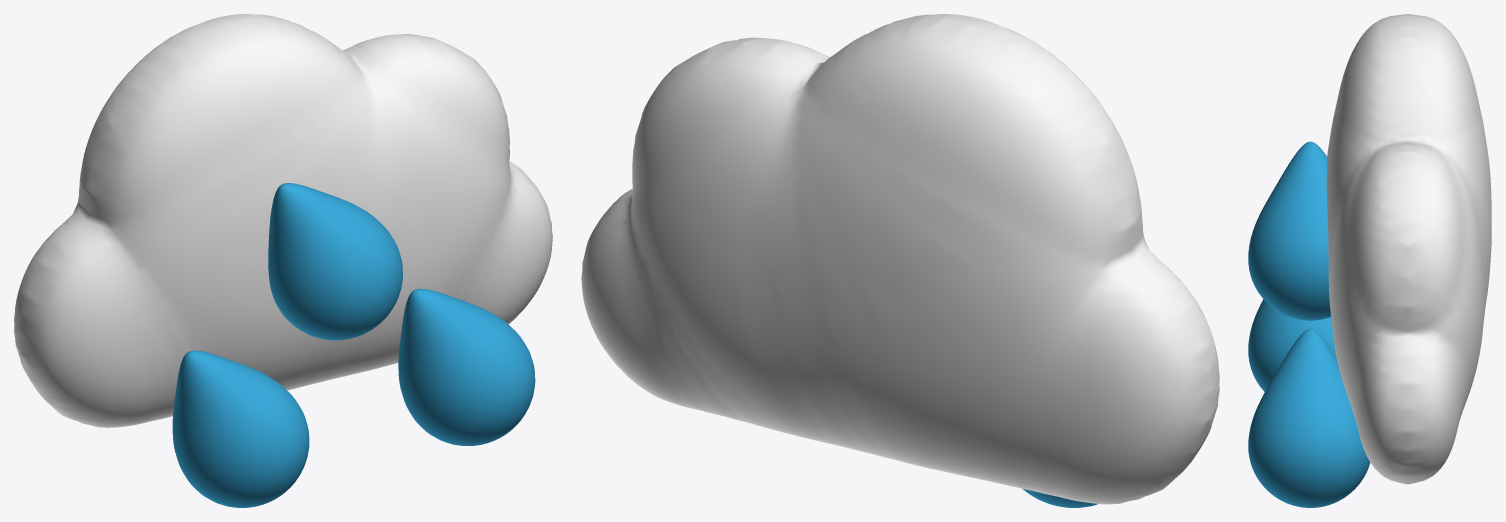
Rendered from HeavyRain.glb.
3 views of the same model, side by side, from view 1: azimuth 30°, elevation 25°; view 2: azimuth 150°, elevation 25°; view 3: azimuth 270°, elevation 25° (orthographic). The views are drawn at different scales.
Visible parts, largest first — view 1: Object_35, node_id226_41, node_id224_51, node_id237_52; view 2: Object_35; view 3: Object_35, node_id226_41, node_id237_52, node_id224_51.
Boxes of the visible parts, x1=… form: Object_35: x1=14, y1=14, x2=552, y2=427; node_id226_41: x1=398, y1=288, x2=535, y2=445; node_id224_51: x1=172, y1=350, x2=309, y2=507; node_id237_52: x1=268, y1=183, x2=402, y2=340; Object_35: x1=581, y1=14, x2=1219, y2=504; Object_35: x1=1326, y1=14, x2=1491, y2=484; node_id226_41: x1=1248, y1=329, x2=1370, y2=507; node_id237_52: x1=1248, y1=141, x2=1331, y2=320; node_id224_51: x1=1248, y1=299, x2=1336, y2=391.
Size of the model in its own units: 0.1453 by 0.1139 by 0.0632.
Materials: 2 (2 with a texture image).
